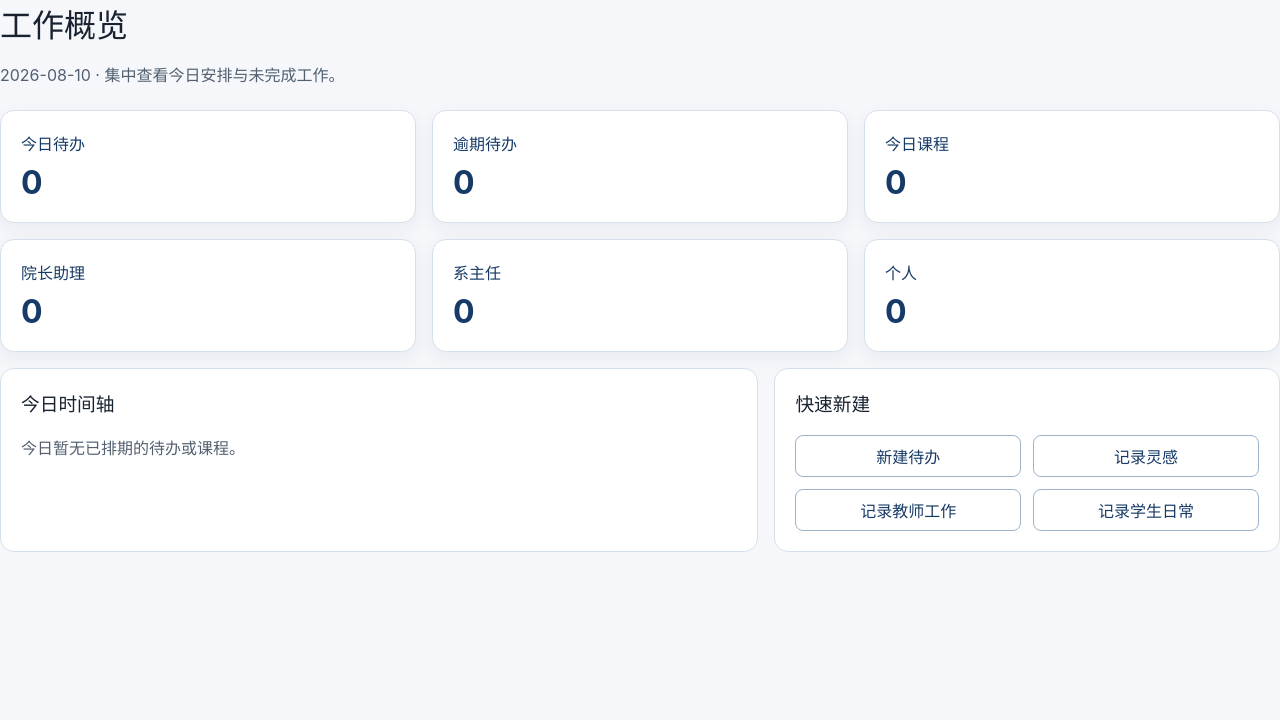
Scenario: refreshes the overview after a quick-created todo is saved
Expected: the link "个人 0" is shown, [864,239,1279,352]
Click the button "新建待办": click(908, 456) [795,435,1021,477]
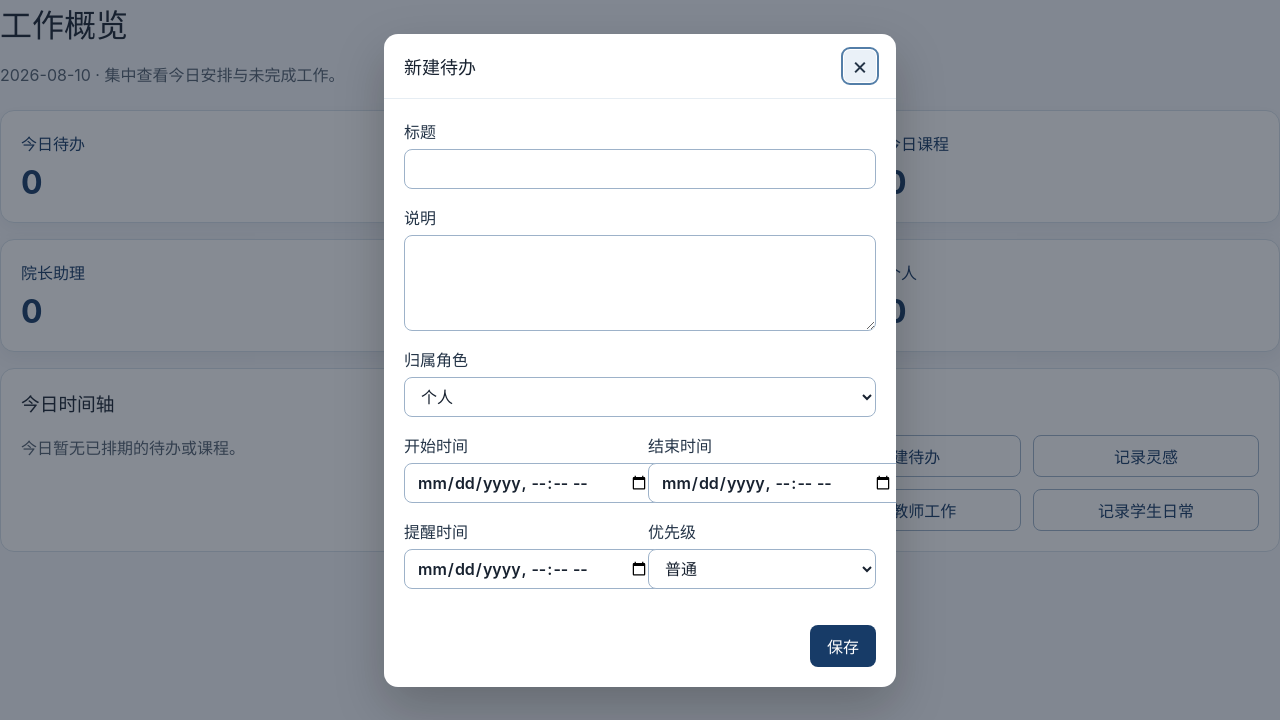
In the field labelled "标题": (640, 168) [404,148,876,188], type "快捷任务"
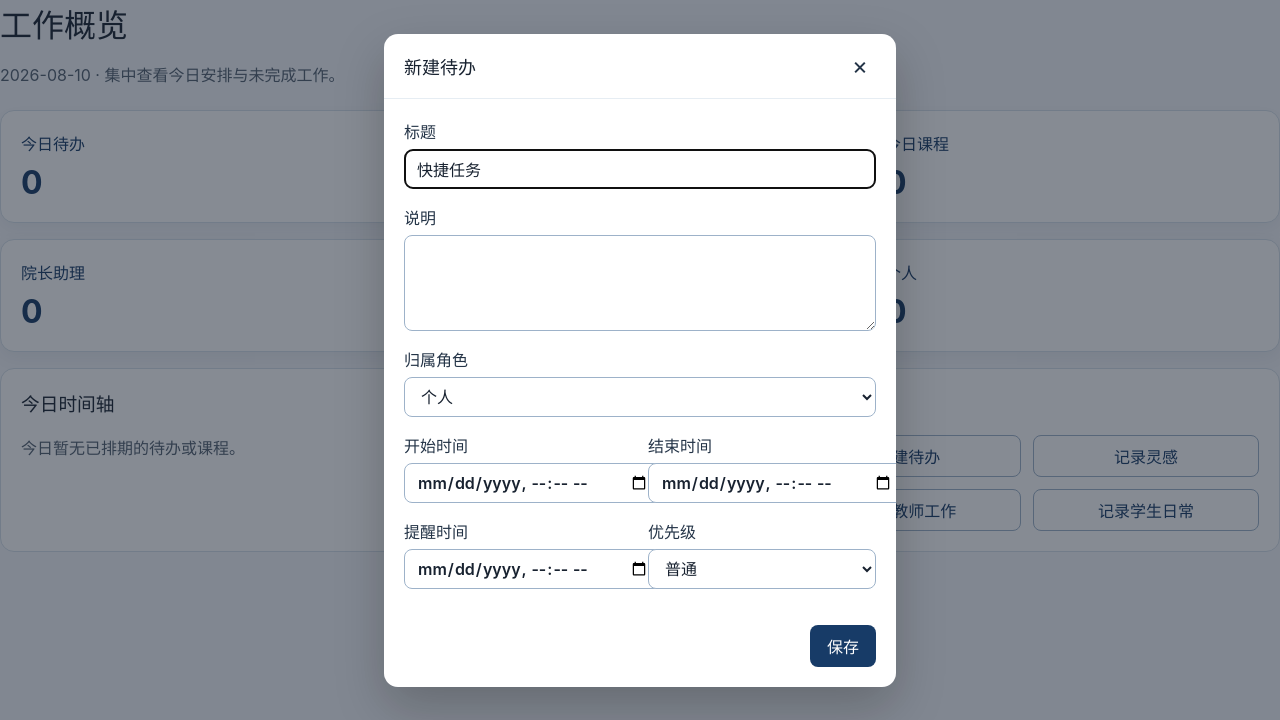
Click the button "保存": click(843, 646) [810,624,876,666]
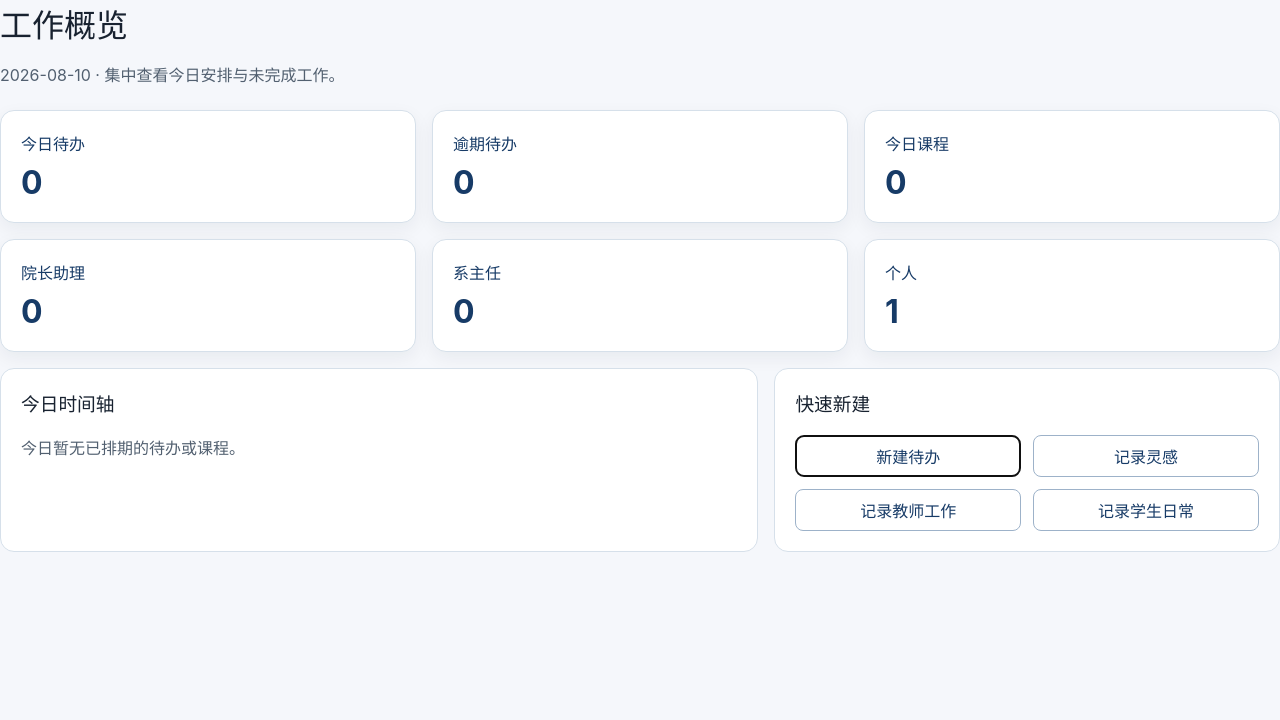
Result: the link "个人 1" is shown at [864,239,1279,352]
